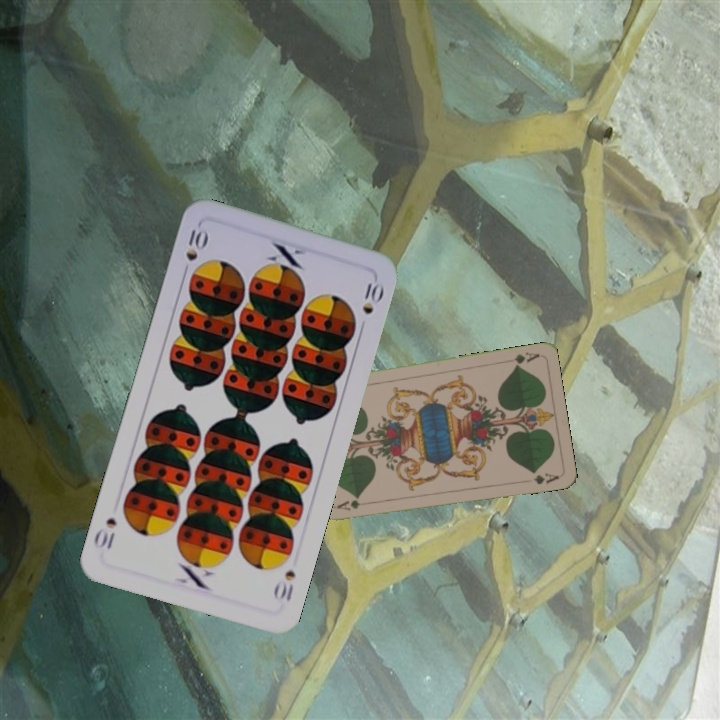GA: (501, 348, 542, 370), (333, 497, 363, 513)
S10: (181, 221, 210, 264), (269, 566, 299, 605)
